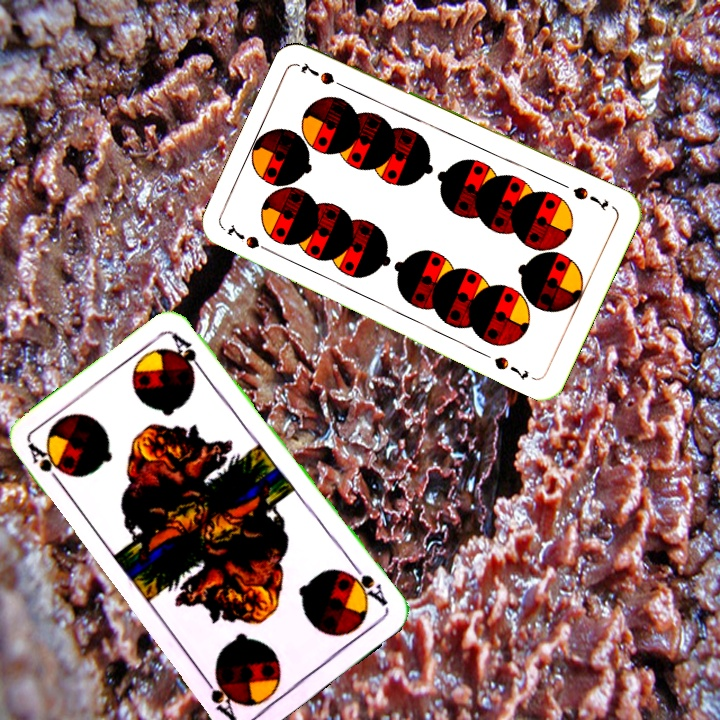S7: (223, 221, 277, 257), (569, 182, 611, 214)
SA: (341, 559, 391, 609), (24, 439, 70, 490)
